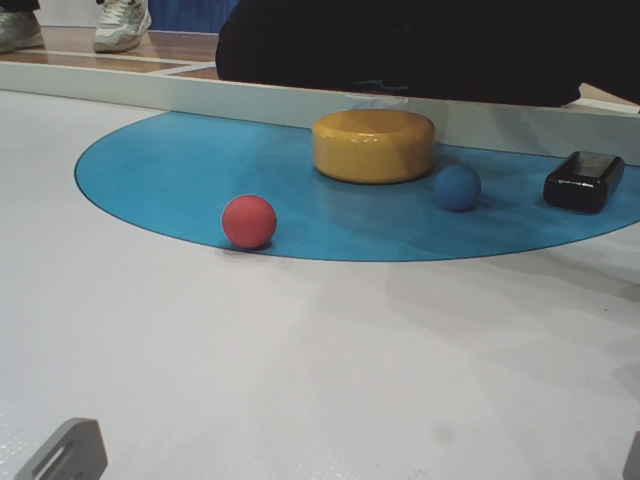black: (546, 140, 623, 225)
blue: (433, 157, 489, 218)
red: (219, 193, 277, 255)
yellow: (309, 103, 433, 186)
